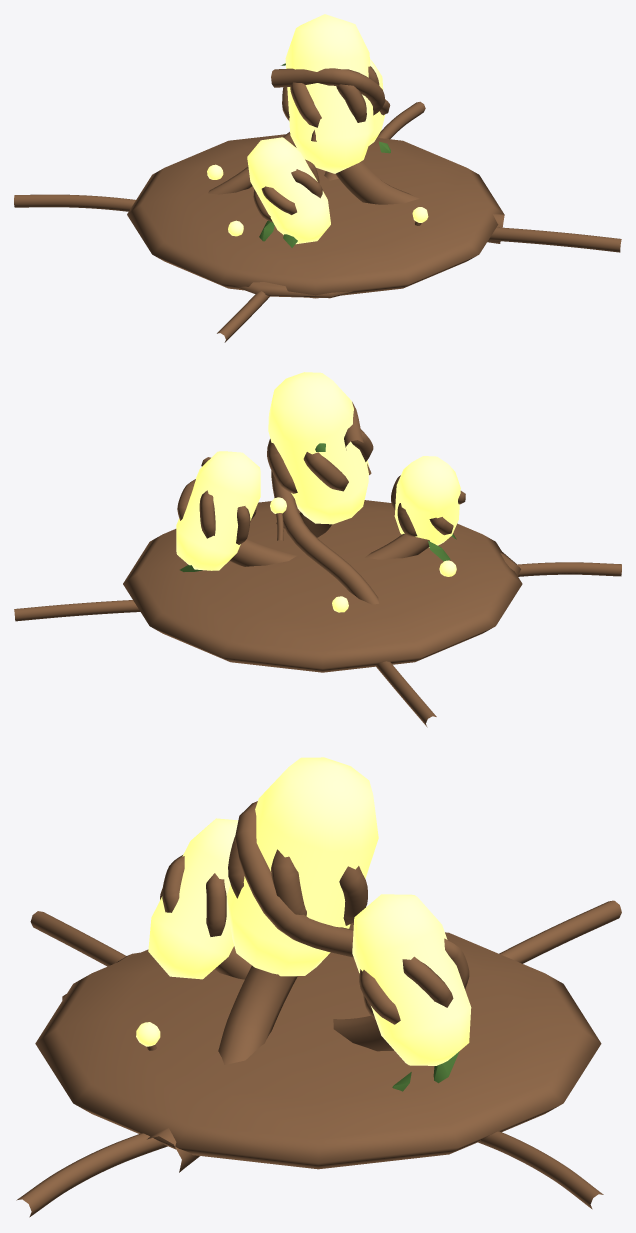
The model's file is node-root-pod.glb.
The picture shows the model from 3 angles, top to bottom: view 1: azimuth 30°, elevation 25°; view 2: azimuth 150°, elevation 25°; view 3: azimuth 270°, elevation 25°; orthographic projection. The views are drawn at different scales.
Parts seen in each view (by area): view 1: Mesh_DirtBase1, Mesh_MainPod_Core, Mesh_LeftPod_Core, Mesh_Root_D, Mesh_Root_A, Mesh_Tendril_1, Mesh_Tendril_3, Mesh_DirtBase2, Mesh_Tendril_2, Mesh_MainPod_Rib_2, Mesh_Tendril_4, Mesh_MainPod_Rib_1 (+1 smaller); view 2: Mesh_DirtBase1, Mesh_MainPod_Core, Mesh_RightPod_Core, Mesh_LeftPod_Core, Mesh_Root_D, Mesh_Tendril_4, Mesh_Tendril_2, Mesh_Tendril_3, Mesh_Root_B, Mesh_Root_C, Mesh_MainPod_Rib_3, Mesh_MainPod_Rib_4 (+1 smaller); view 3: Mesh_DirtBase1, Mesh_MainPod_Core, Mesh_RightPod_Core, Mesh_LeftPod_Core, Mesh_Root_D, Mesh_Root_A, Mesh_Tendril_1, Mesh_Tendril_3, Mesh_Tendril_4, Mesh_Tendril_2, Mesh_MainPod_Rib_0, Mesh_Root_B (+6 smaller).
Part boxes in pixels (x1,y1,x2,y2): Mesh_DirtBase1: [127, 134, 503, 298]; Mesh_MainPod_Core: [285, 14, 374, 173]; Mesh_LeftPod_Core: [247, 137, 330, 244]; Mesh_Root_D: [208, 68, 385, 194]; Mesh_Root_A: [335, 161, 504, 243]; Mesh_Tendril_1: [488, 227, 621, 252]; Mesh_Tendril_3: [14, 194, 135, 211]; Mesh_DirtBase2: [235, 282, 352, 298]; Mesh_Tendril_2: [217, 291, 269, 342]; Mesh_MainPod_Rib_2: [290, 82, 321, 127]; Mesh_Tendril_4: [377, 101, 425, 139]; Mesh_MainPod_Rib_1: [336, 84, 366, 122]; Mesh_DirtBase1: [123, 500, 522, 672]; Mesh_MainPod_Core: [268, 372, 369, 524]; Mesh_RightPod_Core: [176, 451, 260, 570]; Mesh_LeftPod_Core: [394, 456, 460, 547]; Mesh_Root_D: [271, 402, 378, 604]; Mesh_Tendril_4: [14, 600, 140, 621]; Mesh_Tendril_2: [517, 562, 621, 576]; Mesh_Tendril_3: [376, 661, 436, 727]; Mesh_Root_B: [229, 539, 296, 566]; Mesh_Root_C: [365, 533, 429, 559]; Mesh_MainPod_Rib_3: [303, 452, 348, 491]; Mesh_MainPod_Rib_4: [267, 439, 297, 493]; Mesh_DirtBase1: [35, 922, 601, 1169]; Mesh_MainPod_Core: [227, 757, 378, 976]; Mesh_RightPod_Core: [352, 894, 471, 1065]; Mesh_LeftPod_Core: [148, 818, 238, 979]; Mesh_Root_D: [235, 801, 353, 957]; Mesh_Root_A: [147, 965, 297, 1172]; Mesh_Tendril_1: [16, 1133, 167, 1217]; Mesh_Tendril_3: [499, 900, 621, 963]; Mesh_Tendril_4: [478, 1131, 603, 1209]; Mesh_Tendril_2: [30, 911, 126, 966]; Mesh_MainPod_Rib_0: [271, 849, 306, 915]; Mesh_Root_B: [333, 1015, 393, 1051].
Size of the model in its own units: 0.9262 by 0.4657 by 0.7816.
Materials: 2 (2 with a texture image).
